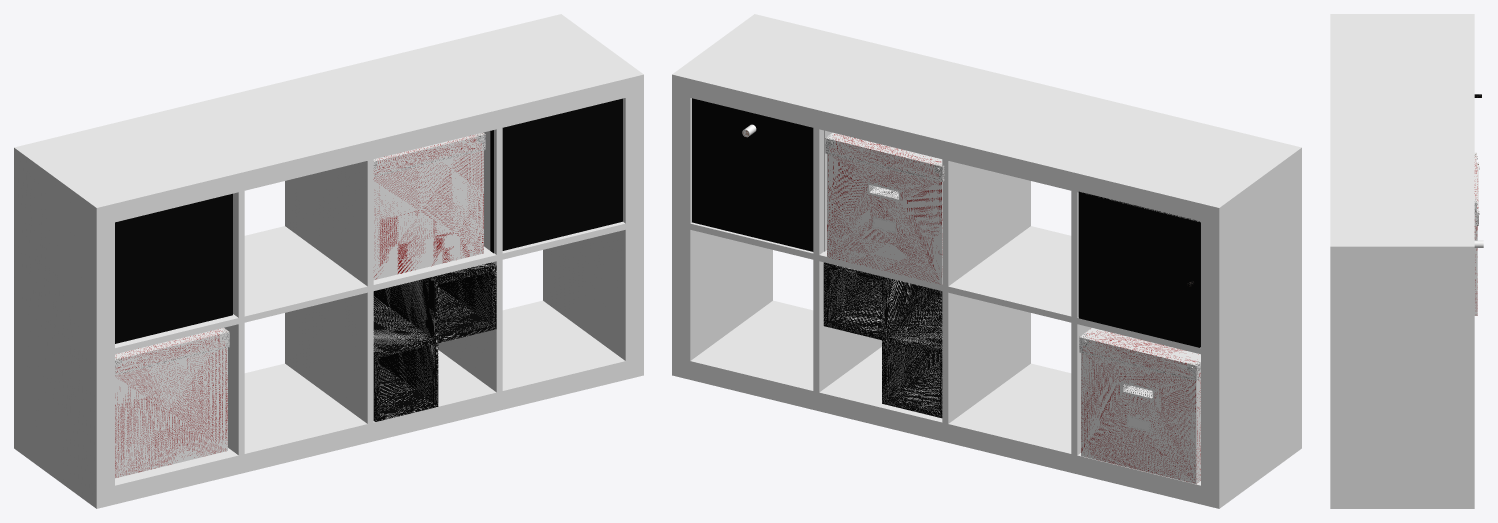
3 renders of one model, left to right at view 1: azimuth 30°, elevation 25°; view 2: azimuth 150°, elevation 25°; view 3: azimuth 270°, elevation 25°, orthographic. The views are drawn at different scales.
Parts seen in each view (by area): view 1: mesh21_mesh21-geometry, mesh3_mesh3-geometry, mesh18_mesh18-geometry, mesh23_mesh23-geometry, mesh22_mesh22-geometry, mesh1_mesh1-geometry; view 2: mesh21_mesh21-geometry, mesh23_mesh23-geometry, mesh18_mesh18-geometry, mesh7_mesh7-geometry, mesh22_mesh22-geometry; view 3: mesh21_mesh21-geometry, mesh22_mesh22-geometry, mesh23_mesh23-geometry.
Part boxes in pixels (<box>): mesh21_mesh21-geometry: <box>14,14,643,508</box>; mesh3_mesh3-geometry: <box>490,98,622,253</box>; mesh18_mesh18-geometry: <box>115,193,232,343</box>; mesh23_mesh23-geometry: <box>115,328,229,478</box>; mesh22_mesh22-geometry: <box>373,132,485,280</box>; mesh1_mesh1-geometry: <box>483,131,490,250</box>; mesh21_mesh21-geometry: <box>672,14,1301,508</box>; mesh23_mesh23-geometry: <box>1079,328,1200,484</box>; mesh18_mesh18-geometry: <box>1078,191,1200,347</box>; mesh7_mesh7-geometry: <box>692,98,813,251</box>; mesh22_mesh22-geometry: <box>825,132,944,284</box>; mesh21_mesh21-geometry: <box>1330,14,1474,508</box>; mesh22_mesh22-geometry: <box>1474,152,1477,305</box>; mesh23_mesh23-geometry: <box>1474,162,1479,315</box>.
Bounding box in the file's own units: 0.8596 × 0.4516 × 0.2391.
